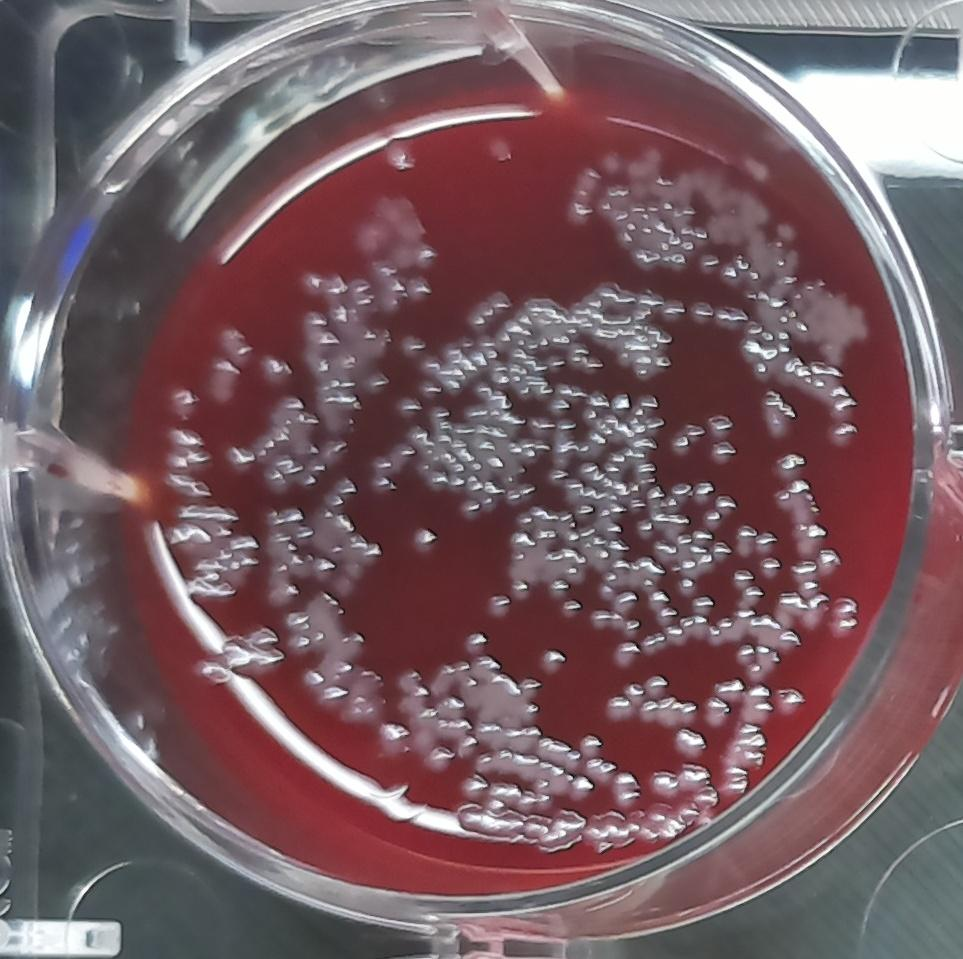paeruginosa: (565, 164, 600, 229), (466, 287, 512, 335), (703, 408, 739, 467), (828, 593, 858, 641), (824, 418, 860, 454), (771, 449, 806, 486), (257, 353, 294, 388), (550, 418, 574, 469), (711, 300, 746, 333), (358, 366, 392, 397), (408, 524, 440, 556), (538, 645, 568, 677), (404, 274, 434, 305), (485, 589, 514, 620), (367, 472, 399, 499), (398, 332, 427, 361), (394, 392, 423, 421), (462, 629, 489, 657), (687, 298, 715, 325), (635, 389, 662, 417), (425, 402, 452, 426), (369, 451, 394, 474)
